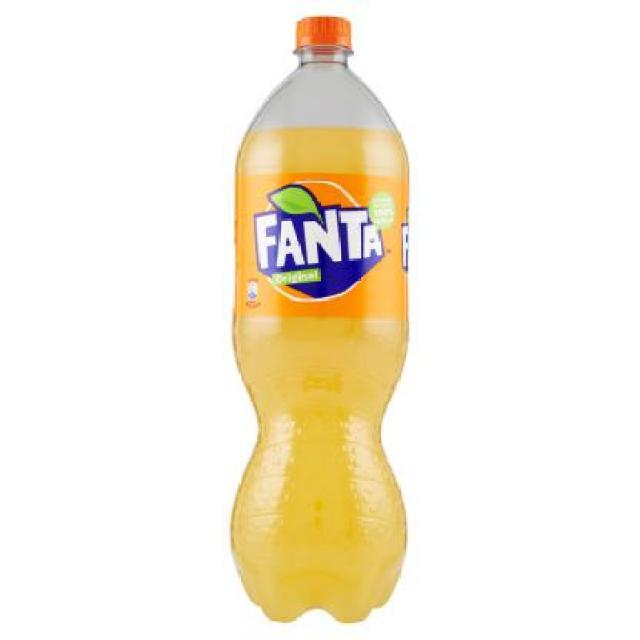Fanta: (228, 14, 410, 626)
